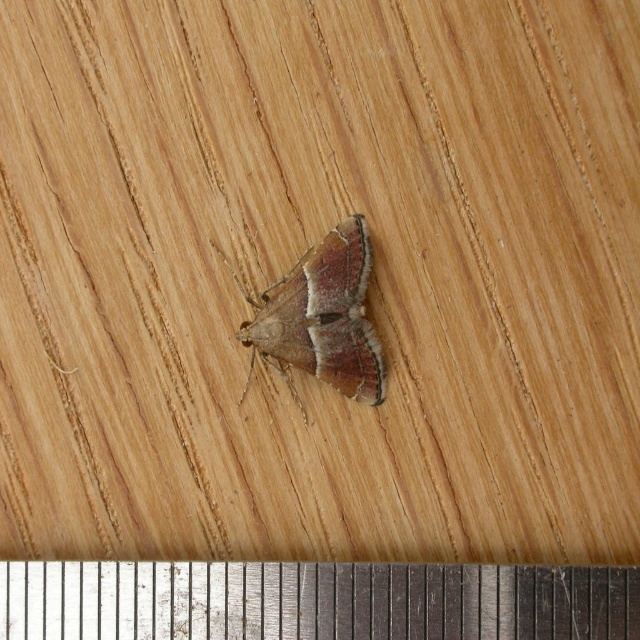Moths and butterflies: (208, 212, 388, 425)
